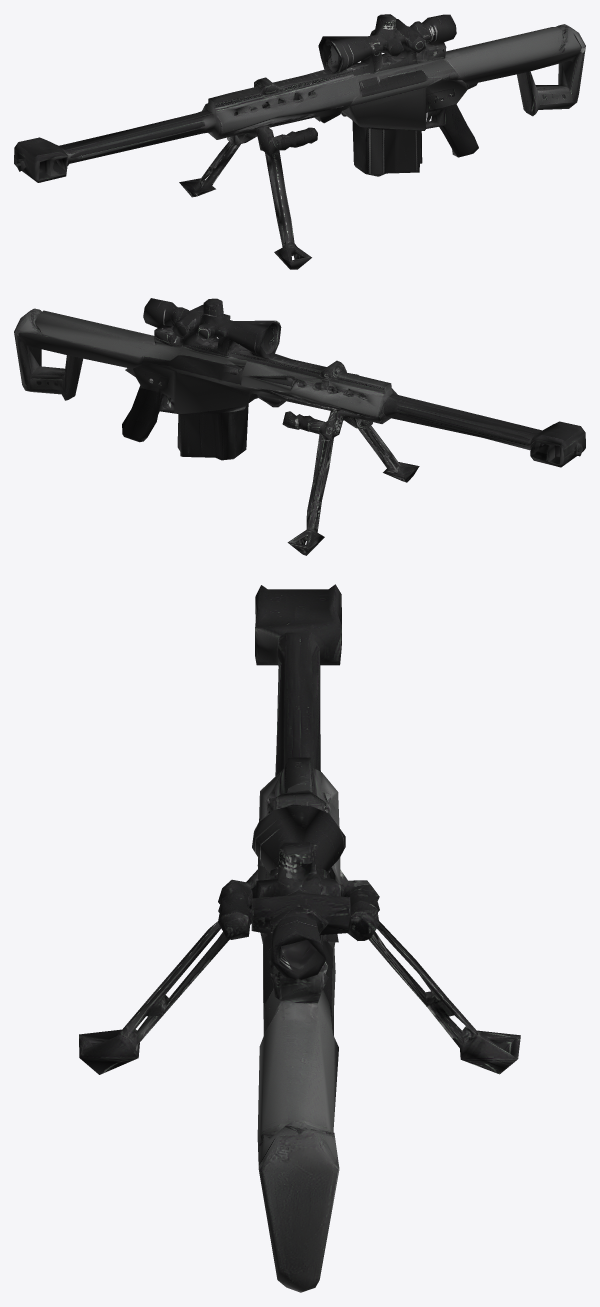
File: 50_Cal.fbx
3 renders of one model, top to bottom at view 1: azimuth 30°, elevation 25°; view 2: azimuth 150°, elevation 25°; view 3: azimuth 270°, elevation 25°, orthographic. The views are drawn at different scales.
Visible parts, largest first — view 1: Mesh_0; view 2: Mesh_0; view 3: Mesh_0.
Boxes of the visible parts, x1,y1,x2,y2 form: Mesh_0: (14, 14, 585, 269); Mesh_0: (14, 298, 585, 555); Mesh_0: (79, 584, 520, 1292).
Bounding box in the file's own units: 191 × 59.38 × 65.48.
1 material, 1 textured.
